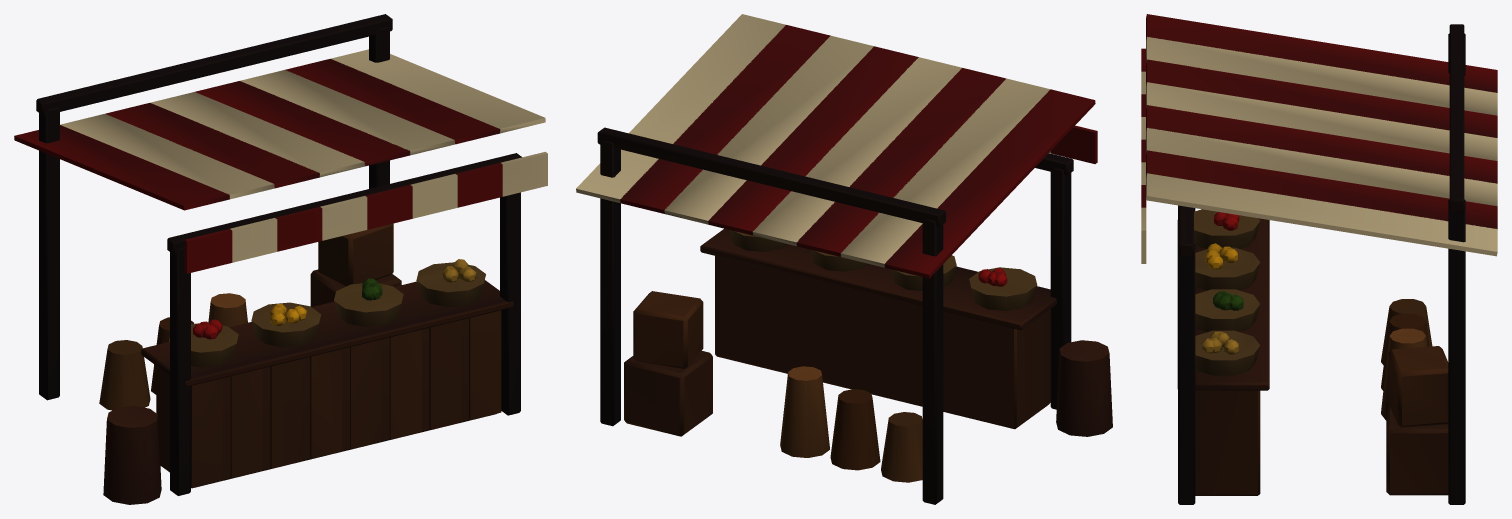
File: Barraca4R.fbx
The picture shows the model from 3 angles, left to right: view 1: azimuth 30°, elevation 25°; view 2: azimuth 150°, elevation 25°; view 3: azimuth 270°, elevation 25°; orthographic projection. The views are drawn at different scales.
Visible parts, largest first — view 1: Barraca4R; view 2: Barraca4R; view 3: Barraca4R.
Part boxes in pixels (x1=…): Barraca4R: x1=14, y1=14, x2=547, y2=504; Barraca4R: x1=576, y1=14, x2=1112, y2=504; Barraca4R: x1=1141, y1=14, x2=1497, y2=504.
Size of the model in its own units: 3.94 by 2.82 by 2.9.
